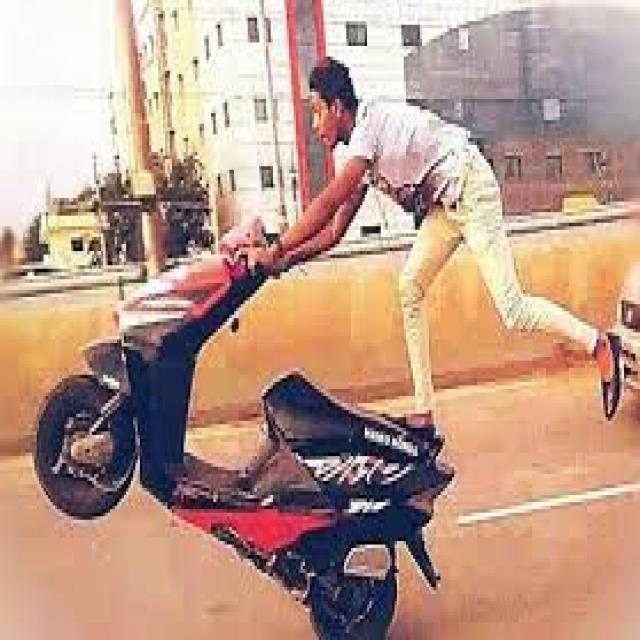Not Wearing Helmet: (288, 60, 354, 163)
Wheeling: (30, 124, 460, 619)
